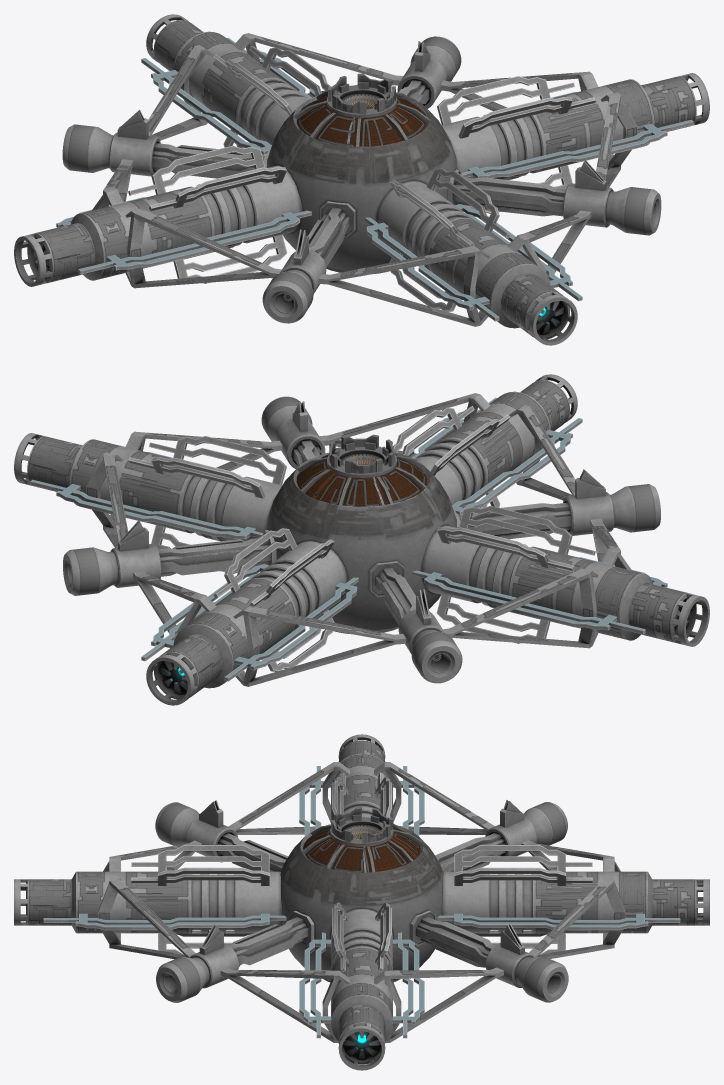
The model's file is building-base-vru.glb.
The picture shows the model from 3 angles, top to bottom: view 1: azimuth 30°, elevation 25°; view 2: azimuth 150°, elevation 25°; view 3: azimuth 270°, elevation 25°; orthographic projection. The views are drawn at different scales.
Parts seen in each view (by area): view 1: SpaceStationParts_1, SpaceStationCore, SupportStructure_Beam3, SupportStructure_Beam4, SupportStructure_Beam2, SupportStructure_Beam1, SurfaceBraces_Long2_2, SurfaceBraces_Long4_1, SurfaceBraces_Long3_1, SurfaceBraces_Long1_2, SurfaceBraces_Short2_1, SurfaceBraces_Short4_2 (+10 smaller); view 2: SpaceStationParts_1, SpaceStationCore, SupportStructure_Beam2, SupportStructure_Beam1, SupportStructure_Beam4, SupportStructure_Beam3, SurfaceBraces_Long2_1, SurfaceBraces_Long4_2, SurfaceBraces_Long1_2, SurfaceBraces_Long3_1, SurfaceBraces_Short2_2, SurfaceBraces_Short4_1 (+10 smaller); view 3: SpaceStationParts_1, SpaceStationCore, SupportStructure_Beam4, SupportStructure_Beam1, SupportStructure_Beam3, SupportStructure_Beam2, SurfaceBraces_Long3_2, SurfaceBraces_Long1_1, SurfaceBraces_Short3_2, SurfaceBraces_Short1_1, SurfaceBraces_Short1_2, SurfaceBraces_Short3_1 (+7 smaller).
Part boxes in pixels (bbox=[...]): SpaceStationParts_1: bbox=[14, 14, 709, 345]; SpaceStationCore: bbox=[267, 85, 456, 273]; SupportStructure_Beam3: bbox=[125, 208, 490, 326]; SupportStructure_Beam4: bbox=[507, 92, 637, 280]; SupportStructure_Beam2: bbox=[92, 45, 214, 210]; SupportStructure_Beam1: bbox=[233, 33, 598, 111]; SurfaceBraces_Long2_2: bbox=[78, 210, 311, 274]; SurfaceBraces_Long4_1: bbox=[461, 119, 693, 178]; SurfaceBraces_Long3_1: bbox=[365, 217, 499, 321]; SurfaceBraces_Long1_2: bbox=[141, 58, 271, 154]; SurfaceBraces_Short2_1: bbox=[128, 145, 265, 195]; SurfaceBraces_Short4_2: bbox=[437, 76, 574, 124]; SpaceStationParts_1: bbox=[14, 374, 709, 705]; SpaceStationCore: bbox=[267, 446, 456, 633]; SupportStructure_Beam2: bbox=[233, 568, 598, 686]; SupportStructure_Beam1: bbox=[86, 452, 216, 640]; SupportStructure_Beam4: bbox=[125, 393, 490, 471]; SupportStructure_Beam3: bbox=[509, 405, 631, 570]; SurfaceBraces_Long2_1: bbox=[412, 570, 645, 634]; SurfaceBraces_Long4_2: bbox=[30, 479, 262, 539]; SurfaceBraces_Long1_2: bbox=[224, 577, 358, 681]; SurfaceBraces_Long3_1: bbox=[452, 418, 582, 514]; SurfaceBraces_Short2_2: bbox=[458, 505, 595, 555]; SurfaceBraces_Short4_1: bbox=[149, 436, 286, 484]; SpaceStationParts_1: bbox=[14, 734, 709, 1070]; SpaceStationCore: bbox=[280, 817, 443, 982]; SupportStructure_Beam4: bbox=[98, 878, 349, 1042]; SupportStructure_Beam1: bbox=[374, 878, 625, 1042]; SupportStructure_Beam3: bbox=[103, 762, 349, 871]; SupportStructure_Beam2: bbox=[374, 762, 620, 871]; SurfaceBraces_Long3_2: bbox=[43, 913, 286, 930]; SurfaceBraces_Long1_1: bbox=[437, 913, 680, 930]; SurfaceBraces_Short3_2: bbox=[131, 867, 269, 885]; SurfaceBraces_Short1_1: bbox=[454, 867, 592, 885]; SurfaceBraces_Short1_2: bbox=[454, 845, 592, 871]; SurfaceBraces_Short3_1: bbox=[131, 845, 269, 871].
Size of the model in its own units: 6.49 by 1.52 by 6.49.
Materials: 2 (2 with a texture image).
